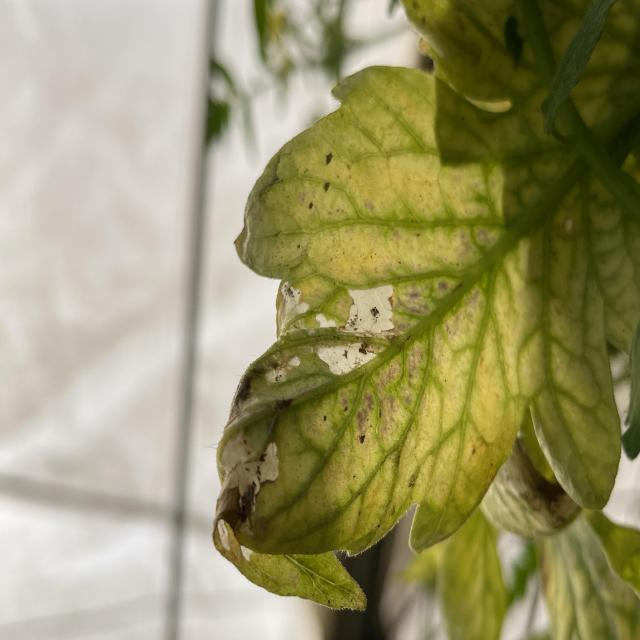Tuta absoluta: (210, 431, 293, 524), (344, 285, 393, 335), (317, 341, 377, 376), (277, 278, 310, 320), (262, 355, 304, 385), (215, 519, 232, 553), (315, 313, 336, 328)
